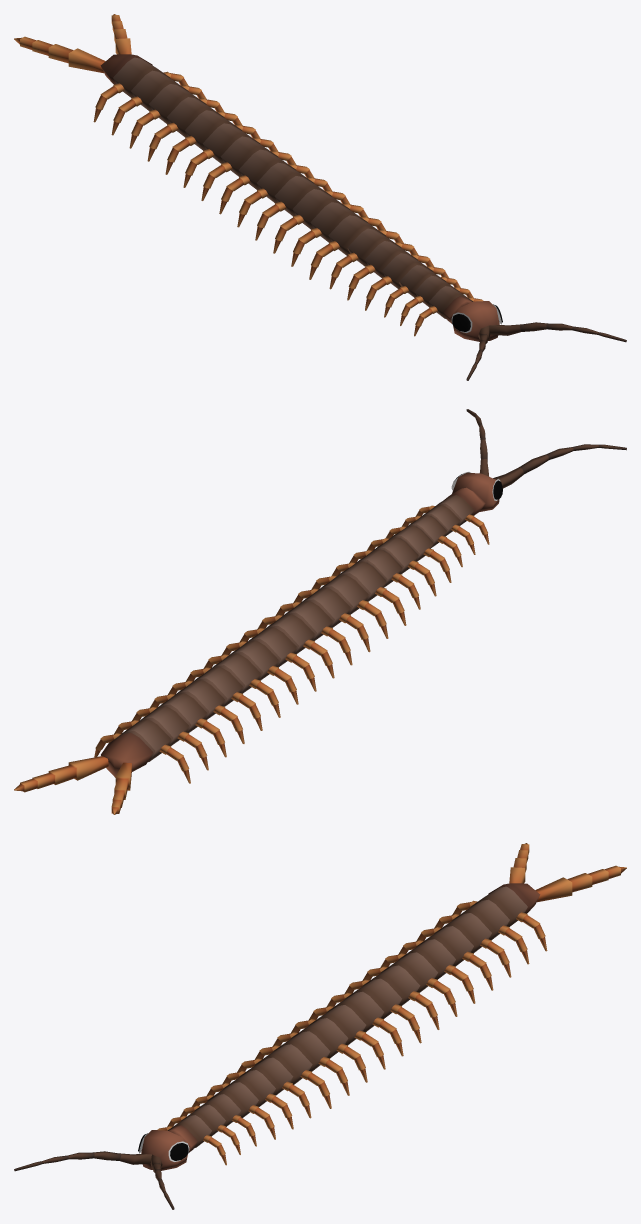
3 views of the same model, one above another, from view 1: azimuth 30°, elevation 25°; view 2: azimuth 150°, elevation 25°; view 3: azimuth 330°, elevation 25° (orthographic).
Parts seen in each view (by area): view 1: base.016; view 2: base.016; view 3: base.016.
Boxes of the visible parts, left/top/right/bottom form: base.016: left=14, top=14, right=626, bottom=380; base.016: left=14, top=409, right=626, bottom=814; base.016: left=14, top=843, right=626, bottom=1209.
Bounding box in the file's own units: 0.0959 × 0.0309 × 0.5.
